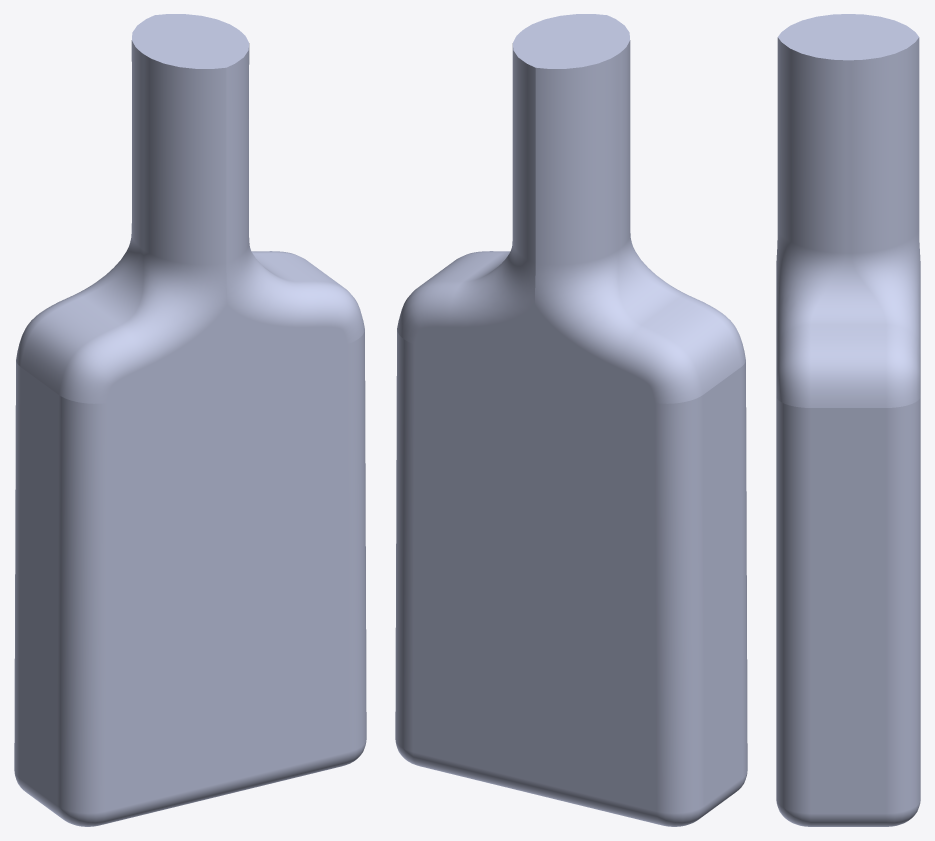
Rendered from Heinz57.dae.
3 views of the same model, side by side, from view 1: azimuth 30°, elevation 25°; view 2: azimuth 150°, elevation 25°; view 3: azimuth 270°, elevation 25° (orthographic).
Parts seen in each view (by area): view 1: Actor0; view 2: Actor0; view 3: Actor0.
Boxes of the visible parts, box(x1,y1,x2,y2) form: Actor0: box(14, 14, 366, 826); Actor0: box(395, 14, 747, 826); Actor0: box(776, 14, 920, 826).
Size of the model in its own units: 0.0762 by 0.1755 by 0.0318.
